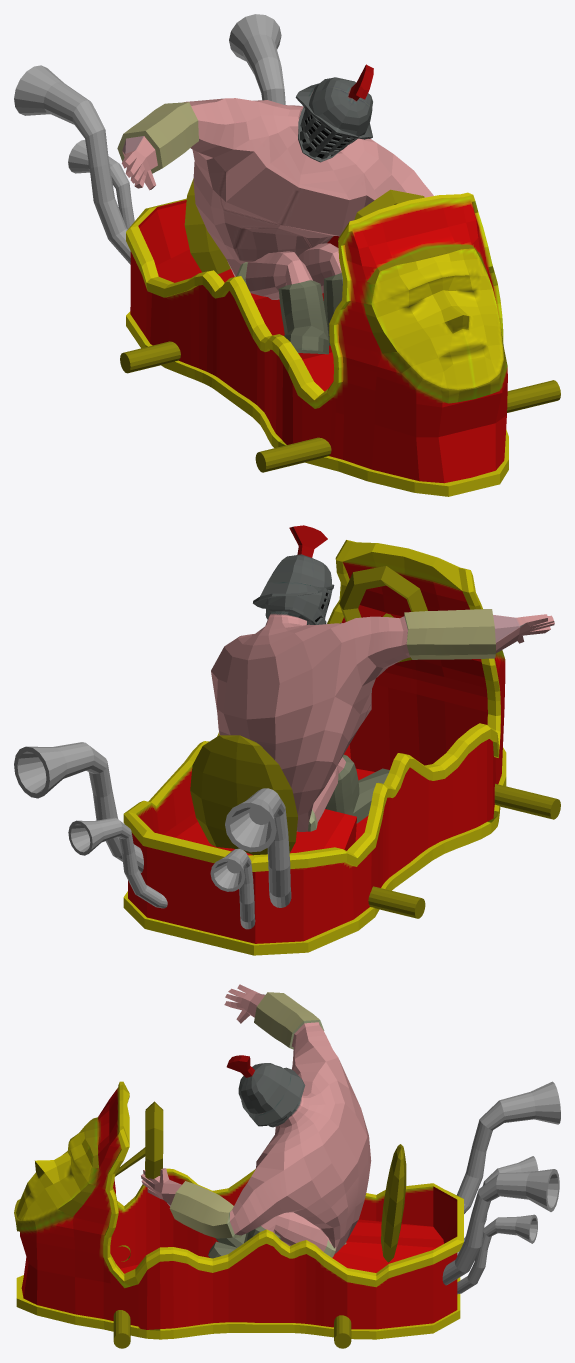
Rendered from gladiVacile_000550.obj.
3 views of the same model, one above another, from view 1: azimuth 30°, elevation 25°; view 2: azimuth 150°, elevation 25°; view 3: azimuth 270°, elevation 25° (orthographic). The views are drawn at different scales.
Visible parts, largest first — view 1: GladiChasis_GladiChasisH, Gadiador_Gladiador_H.001, GladiTubos_GladiTubosH, GladiVolante_GladiVolanteH; view 2: GladiChasis_GladiChasisH, Gadiador_Gladiador_H.001, GladiTubos_GladiTubosH, GladiVolante_GladiVolanteH; view 3: GladiChasis_GladiChasisH, Gadiador_Gladiador_H.001, GladiTubos_GladiTubosH, GladiVolante_GladiVolanteH.
Boxes of the visible parts, x1=… form: GladiChasis_GladiChasisH: x1=126, y1=192, x2=508, y2=496; Gadiador_Gladiador_H.001: x1=117, y1=64, x2=433, y2=354; GladiTubos_GladiTubosH: x1=14, y1=14, x2=285, y2=264; GladiVolante_GladiVolanteH: x1=120, y1=178, x2=560, y2=472; GladiChasis_GladiChasisH: x1=123, y1=540, x2=506, y2=955; Gadiador_Gladiador_H.001: x1=211, y1=525, x2=554, y2=831; GladiTubos_GladiTubosH: x1=14, y1=742, x2=291, y2=929; GladiVolante_GladiVolanteH: x1=190, y1=566, x2=560, y2=918; GladiChasis_GladiChasisH: x1=14, y1=1081, x2=463, y2=1339; Gadiador_Gladiador_H.001: x1=141, y1=984, x2=371, y2=1258; GladiTubos_GladiTubosH: x1=442, y1=1081, x2=560, y2=1294; GladiVolante_GladiVolanteH: x1=113, y1=1101, x2=406, y2=1348.
Size of the model in its own units: 6.7 by 5.53 by 10.78.
